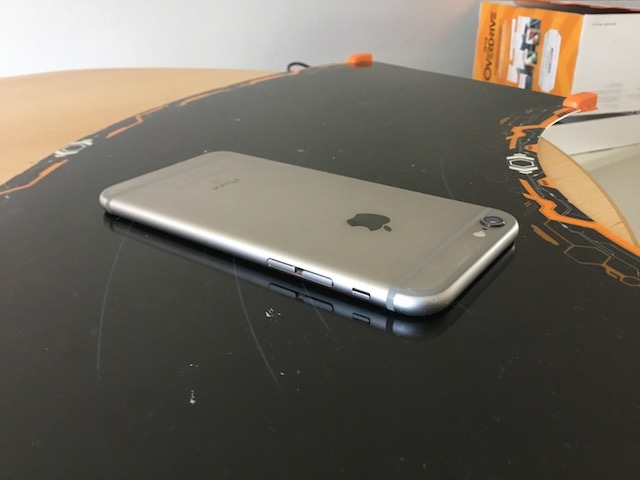phone: (95, 148, 523, 324)
